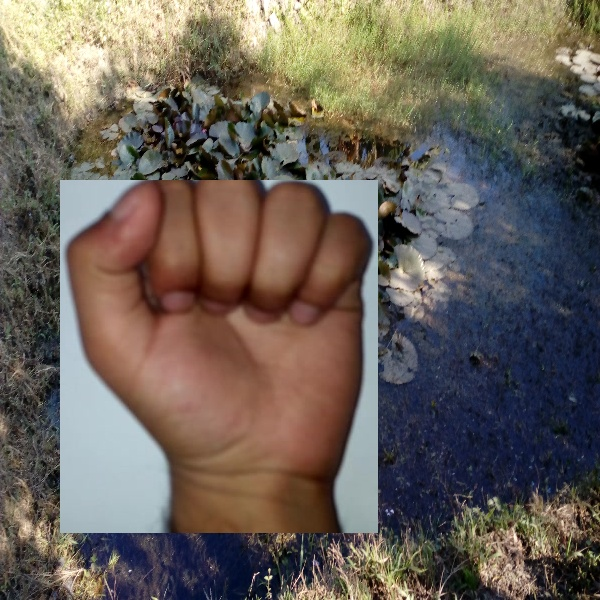A: (60, 180, 378, 533)
